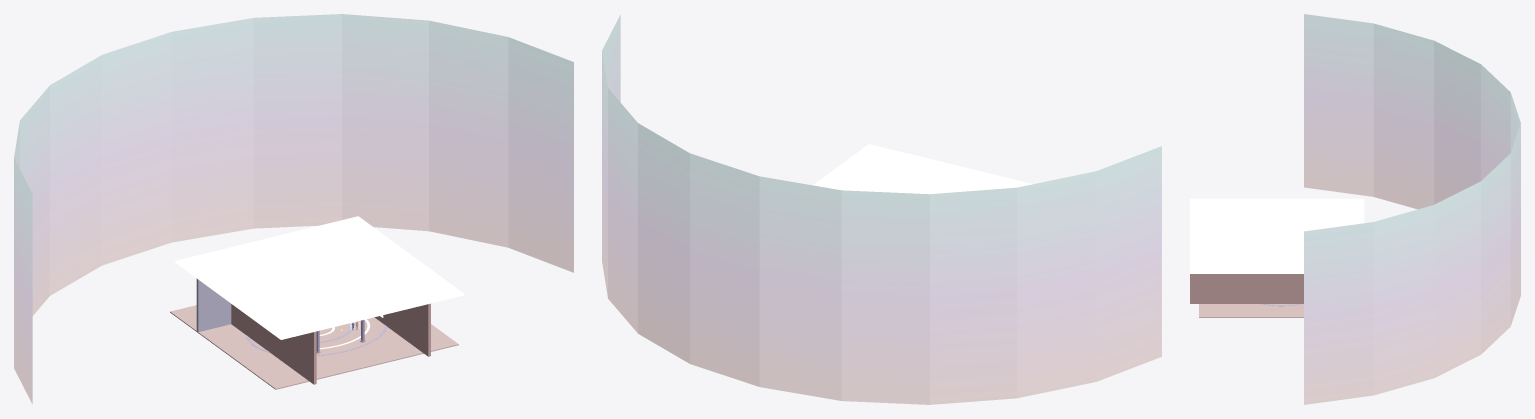
File: room2.glb
The picture shows the model from 3 angles, left to right: view 1: azimuth 30°, elevation 25°; view 2: azimuth 150°, elevation 25°; view 3: azimuth 270°, elevation 25°; orthographic projection. The views are drawn at different scales.
Visible parts, largest first — view 1: backdrop_room2_sky, r2_walls, r2_floor; view 2: backdrop_room2_sky, r2_walls; view 3: backdrop_room2_sky, r2_walls, r2_floor.
Part boxes in pixels (<box>): backdrop_room2_sky: <box>14,14,573,404</box>; r2_walls: <box>175,216,463,384</box>; r2_floor: <box>170,305,458,389</box>; backdrop_room2_sky: <box>602,14,1161,404</box>; r2_walls: <box>813,144,1033,194</box>; backdrop_room2_sky: <box>1304,14,1520,404</box>; r2_walls: <box>1190,198,1364,303</box>; r2_floor: <box>1199,304,1303,317</box>.
Bounding box in the file's own units: 118 × 44 × 76.
Materials: 18 (3 with a texture image).
